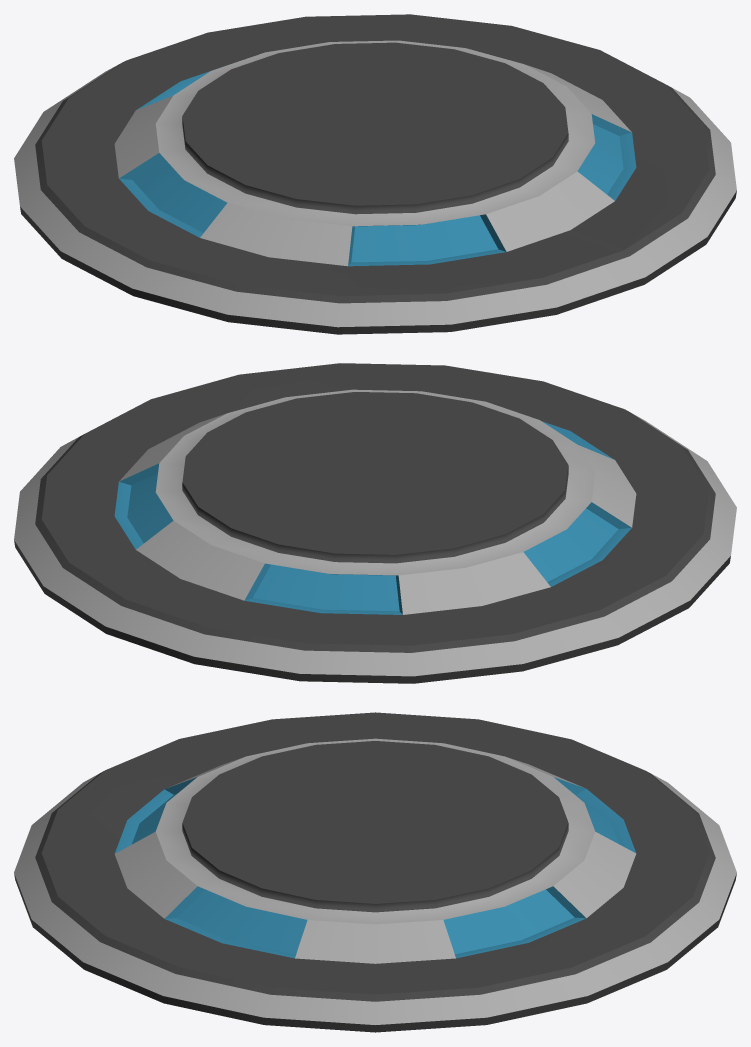
Rendered from EndLevel_Platform.fbx.
3 views of the same model, one above another, from view 1: azimuth 30°, elevation 25°; view 2: azimuth 150°, elevation 25°; view 3: azimuth 270°, elevation 25° (orthographic).
Parts seen in each view (by area): view 1: Platform; view 2: Platform; view 3: Platform.
Part boxes in pixels (<box>): Platform: <box>14,14,736,334</box>; Platform: <box>14,363,736,683</box>; Platform: <box>14,712,736,1032</box>.
Size of the model in its own units: 4753 by 420 by 4753.
